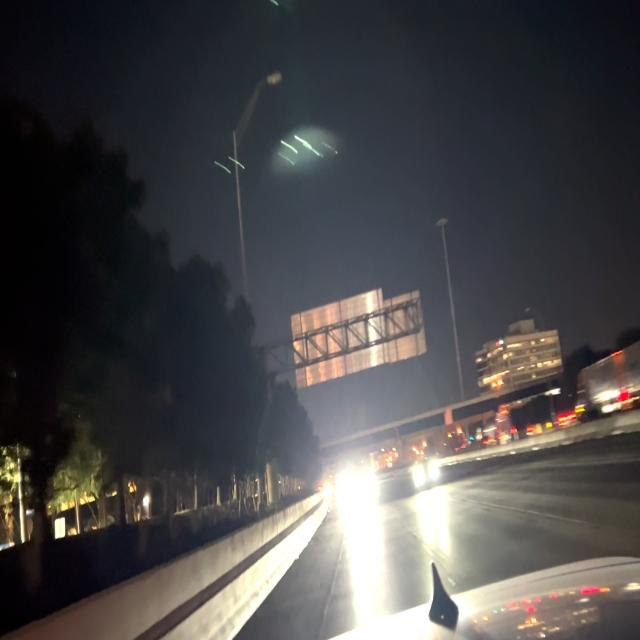back-of-sign: (292, 291, 428, 390)
